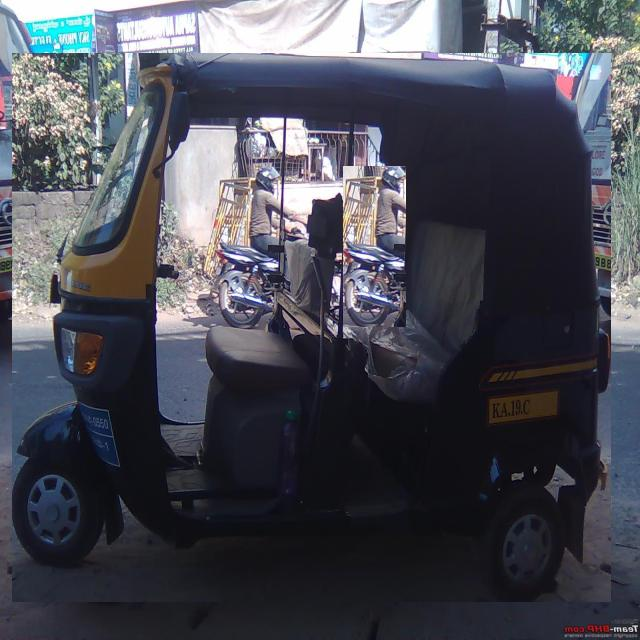autorickshaw: (12, 53, 610, 602)
motorcycle: (343, 166, 405, 327)
